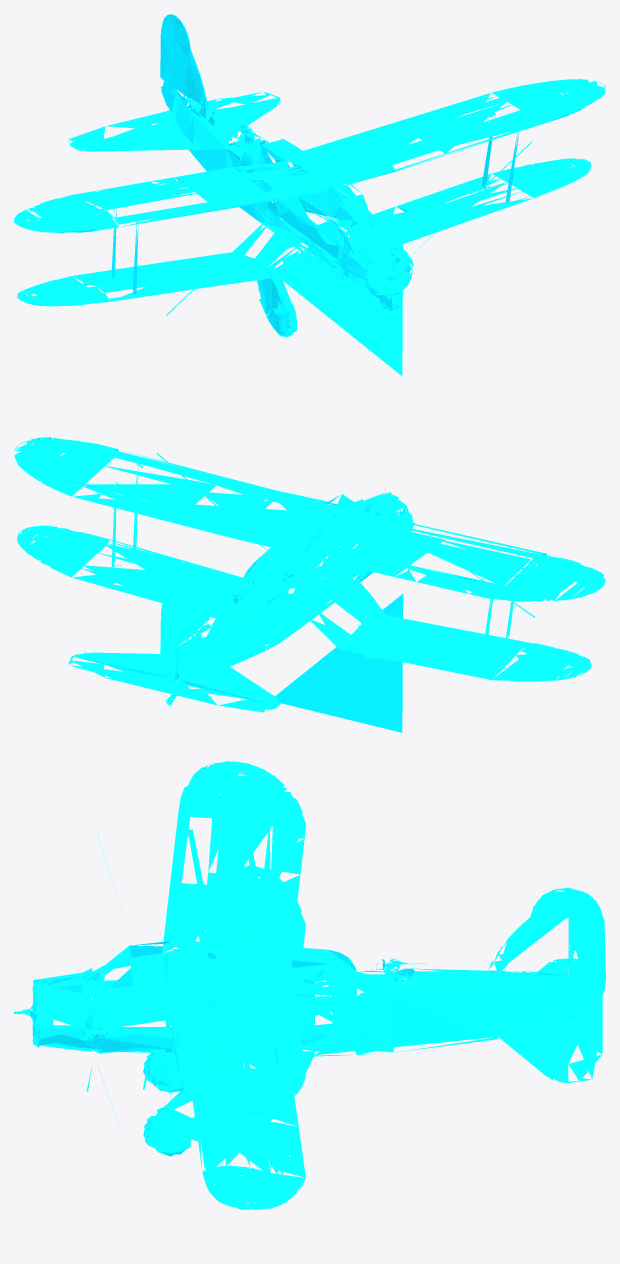
Rendered from PFAB501.glb.
The picture shows the model from 3 angles, top to bottom: view 1: azimuth 30°, elevation 25°; view 2: azimuth 150°, elevation 25°; view 3: azimuth 270°, elevation 25°; orthographic projection. The views are drawn at different scales.
Parts seen in each view (by area): view 1: misc; view 2: misc; view 3: misc.
Boxes of the visible parts, x1,y1,x2,y2 form: misc: (14, 14, 605, 375); misc: (14, 437, 605, 732); misc: (14, 761, 605, 1209).
Size of the model in its own units: 0.9233 by 0.3924 by 0.6546.
